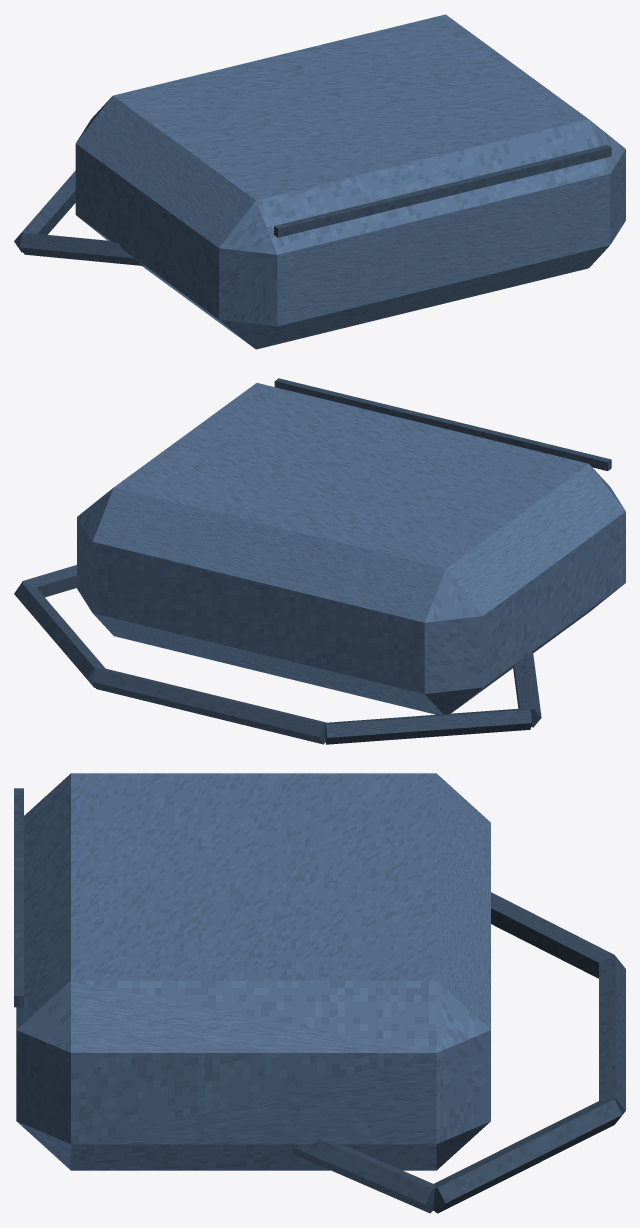
The model's file is fanny.glb.
3 views of the same model, one above another, from view 1: azimuth 30°, elevation 25°; view 2: azimuth 150°, elevation 25°; view 3: azimuth 270°, elevation 25° (orthographic). The views are drawn at different scales.
Parts seen in each view (by area): view 1: block_bag body, block_zipper or closure, block_waist strap 0, block_waist strap 1; view 2: block_bag body, block_waist strap 2, block_waist strap 1, block_zipper or closure, block_waist strap 3, block_waist strap 0, block_waist strap 4; view 3: block_bag body, block_waist strap 3, block_waist strap 4, block_waist strap 2, block_waist strap 1, block_zipper or closure.
Boxes of the visible parts, x1=… form: block_bag body: x1=75, y1=14, x2=625, y2=349; block_zipper or closure: x1=274, y1=144, x2=611, y2=237; block_waist strap 0: x1=20, y1=233, x2=143, y2=265; block_waist strap 1: x1=14, y1=171, x2=75, y2=252; block_bag body: x1=77, y1=383, x2=625, y2=714; block_waist strap 2: x1=92, y1=668, x2=326, y2=744; block_waist strap 1: x1=325, y1=708, x2=531, y2=744; block_zipper or closure: x1=274, y1=378, x2=611, y2=470; block_waist strap 3: x1=14, y1=583, x2=105, y2=687; block_waist strap 0: x1=513, y1=651, x2=541, y2=727; block_waist strap 4: x1=22, y1=565, x2=76, y2=597; block_bag body: x1=16, y1=773, x2=490, y2=1170; block_waist strap 3: x1=433, y1=1099, x2=622, y2=1213; block_waist strap 4: x1=292, y1=1139, x2=435, y2=1213; block_waist strap 2: x1=599, y1=956, x2=625, y2=1120; block_waist strap 1: x1=491, y1=892, x2=614, y2=978; block_zipper or closure: x1=14, y1=788, x2=23, y2=1007.
Bounding box in the file's own units: 0.3098 × 0.084 × 0.245.
Materials: 1 (1 with a texture image).
